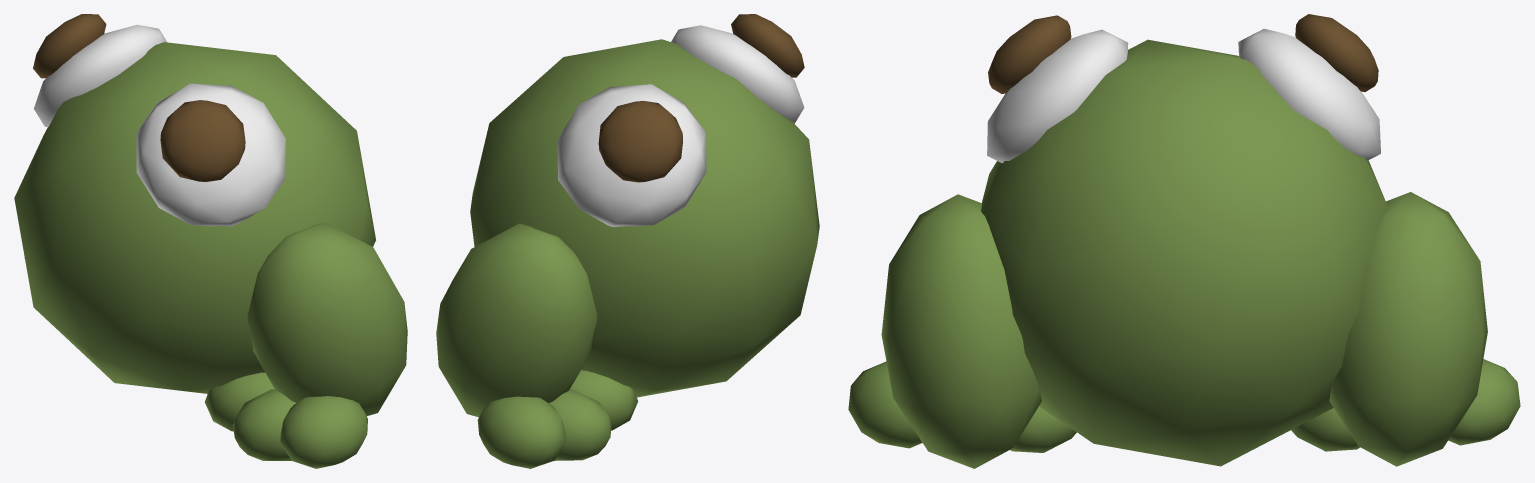
File: frog.fbx
3 renders of one model, left to right at view 1: azimuth 30°, elevation 25°; view 2: azimuth 150°, elevation 25°; view 3: azimuth 270°, elevation 25°, orthographic. The views are drawn at different scales.
Parts seen in each view (by area): view 1: Icosphere.002; view 2: Icosphere.002; view 3: Icosphere.002.
Boxes of the visible parts, x1=… form: Icosphere.002: x1=14, y1=14, x2=407, y2=468; Icosphere.002: x1=436, y1=14, x2=819, y2=468; Icosphere.002: x1=848, y1=14, x2=1520, y2=468.
Size of the model in its own units: 62.66 by 64.62 by 98.56.
